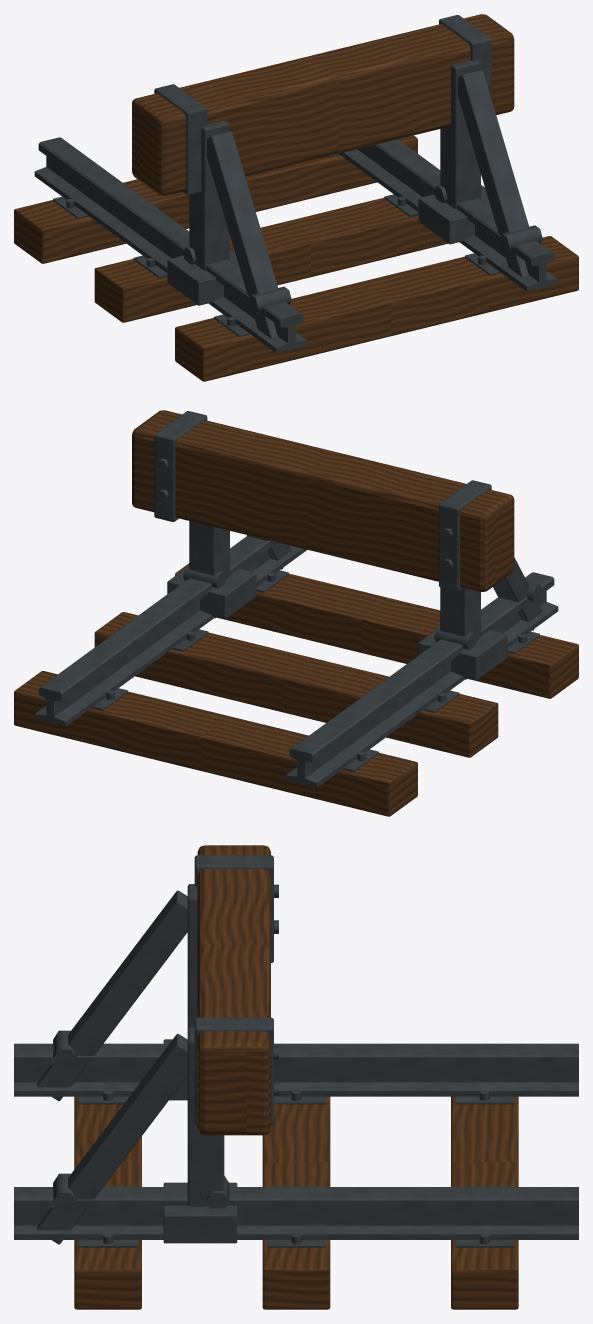
The model's file is Buffer_Stop.fbx.
The picture shows the model from 3 angles, top to bottom: view 1: azimuth 30°, elevation 25°; view 2: azimuth 150°, elevation 25°; view 3: azimuth 270°, elevation 25°; orthographic projection. The views are drawn at different scales.
Parts seen in each view (by area): view 1: Buffer_Structure, Ties.003, Rail_Left.003, Rail_Right.003, Fasteners.003; view 2: Ties.003, Buffer_Structure, Rail_Left.003, Rail_Right.003, Fasteners.003; view 3: Buffer_Structure, Ties.003, Rail_Right.003, Rail_Left.003, Fasteners.003.
Boxes of the visible parts, x1,y1,x2,y2 form: Buffer_Structure: (132,14,542,344); Ties.003: (14,135,578,381); Rail_Left.003: (34,137,307,352); Rail_Right.003: (339,139,558,291); Fasteners.003: (53,154,500,336); Ties.003: (14,563,578,816); Buffer_Structure: (132,410,542,680); Rail_Left.003: (285,572,558,787); Rail_Right.003: (34,536,306,726); Fasteners.003: (92,570,539,771); Buffer_Structure: (37,845,278,1244); Ties.003: (74,1096,518,1309); Rail_Right.003: (14,1187,578,1239); Rail_Left.003: (14,1043,578,1096); Fasteners.003: (78,1090,514,1247).
Bounding box in the file's own units: 90 × 51.05 × 100.
Materials: 3 (3 with a texture image).
